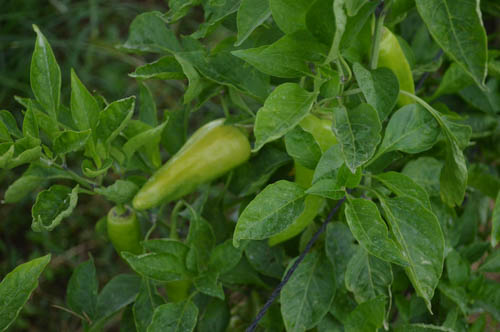ChiliPepper: (129, 118, 255, 196), (275, 119, 340, 183), (372, 28, 418, 102), (106, 210, 136, 259)
